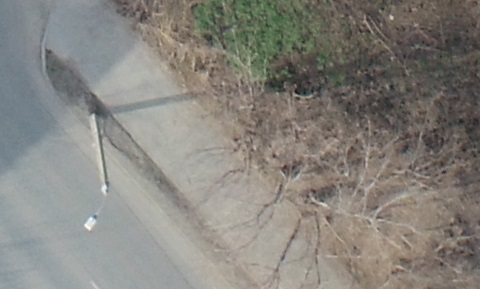opora: (82, 98, 158, 233)
